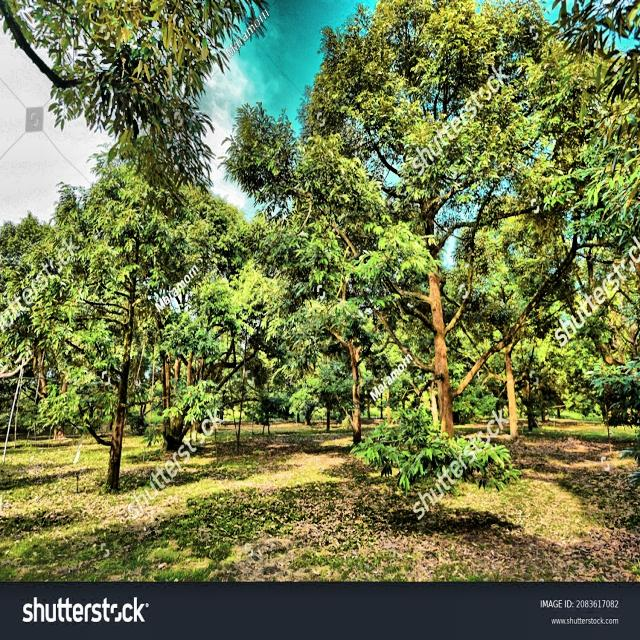arvore: (420, 216, 467, 467), (102, 239, 136, 499), (492, 302, 528, 452), (340, 323, 371, 452)
